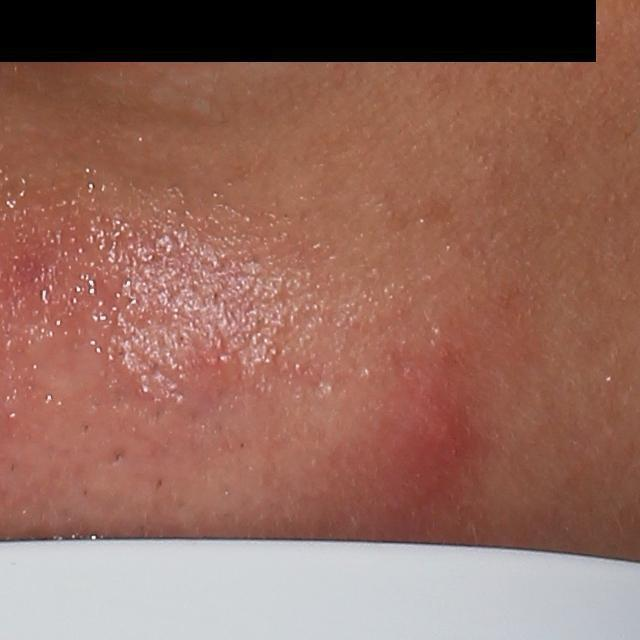nodule: (376, 344, 499, 529)
